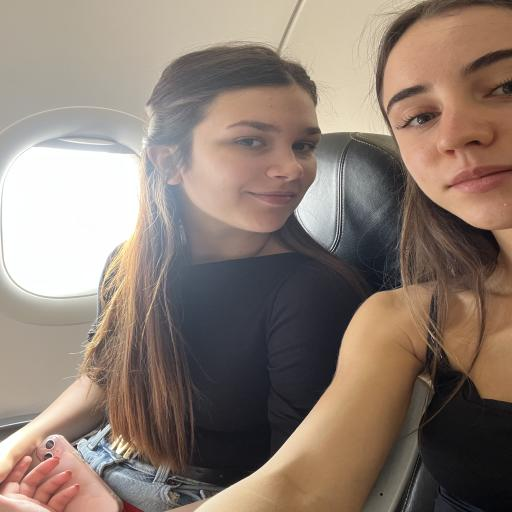masa: (353, 4, 512, 232)
